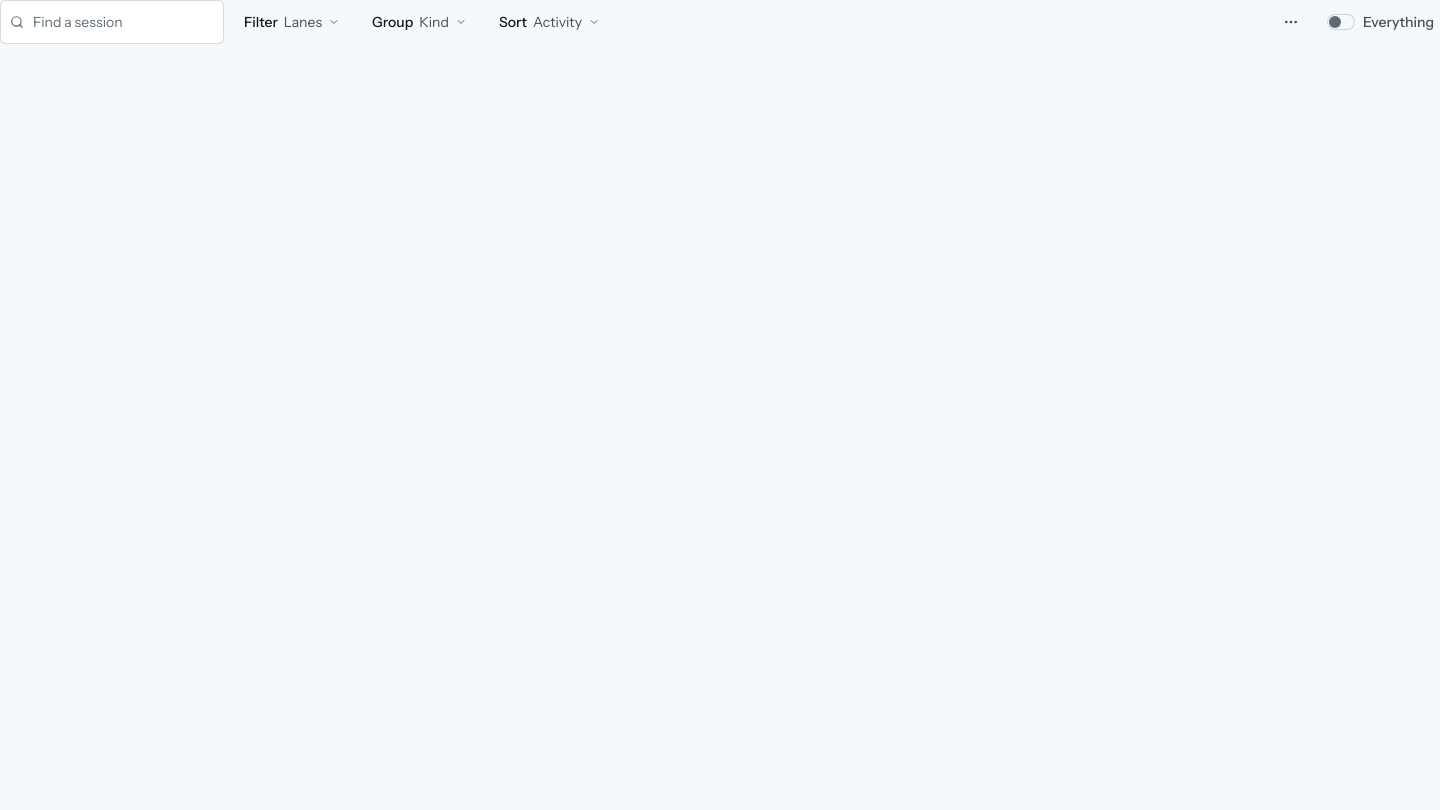
Test: the sessions toolbar › draws no filter at all when there is only one kind — unless one is chosen, which stays to be undone
What coordinates should you click on to do the following:
click the button with aria-label "Filter, Lanes"
I would click on:
 (292, 22)
Its box is 232,0 -> 352,44.
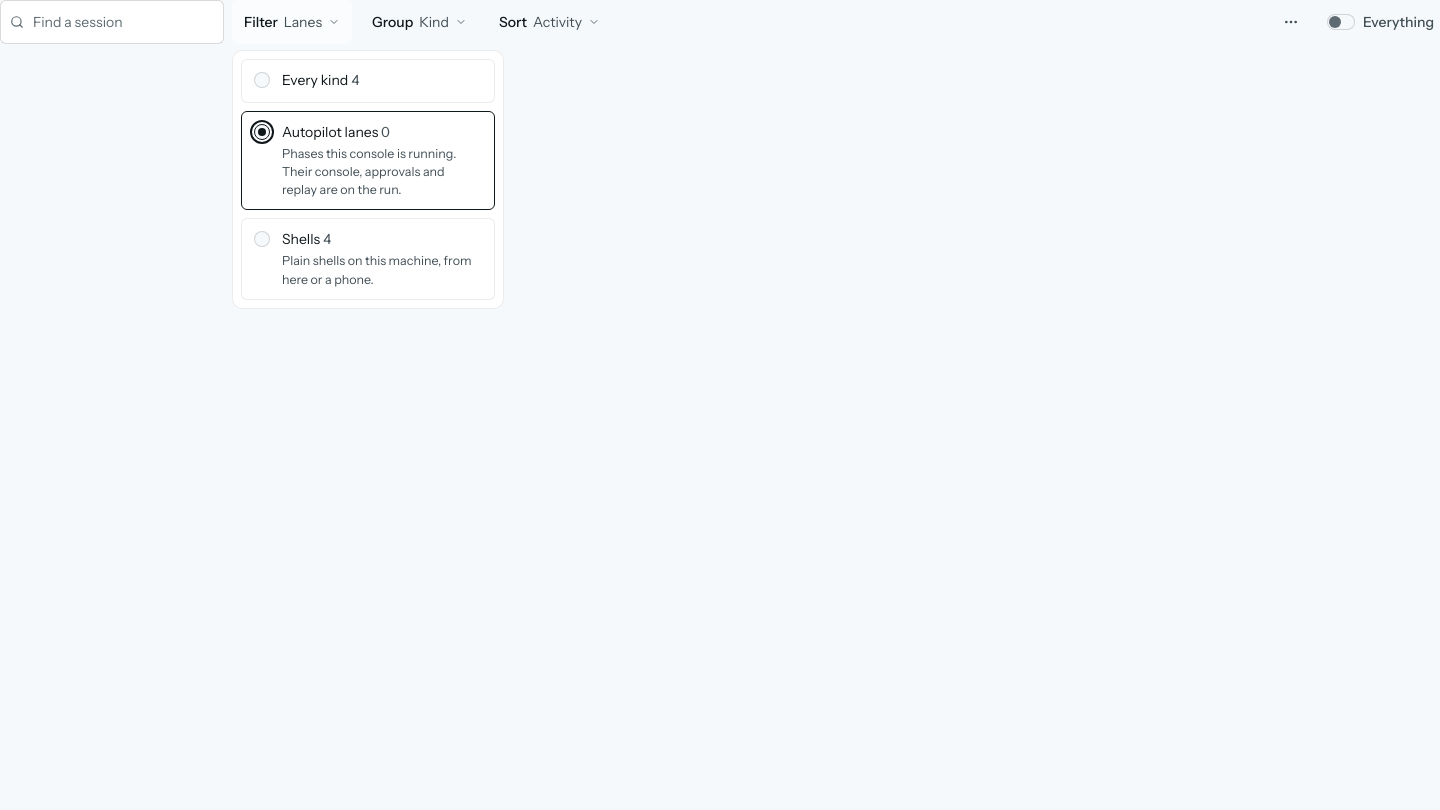
Check: the radio button named "Autopilot lanes 0" next to "Autopilot lanes" is checked, box 254,124 -> 270,140
Check: the 3rd radio button named "Shells 4" is not checked, box 254,231 -> 270,247
